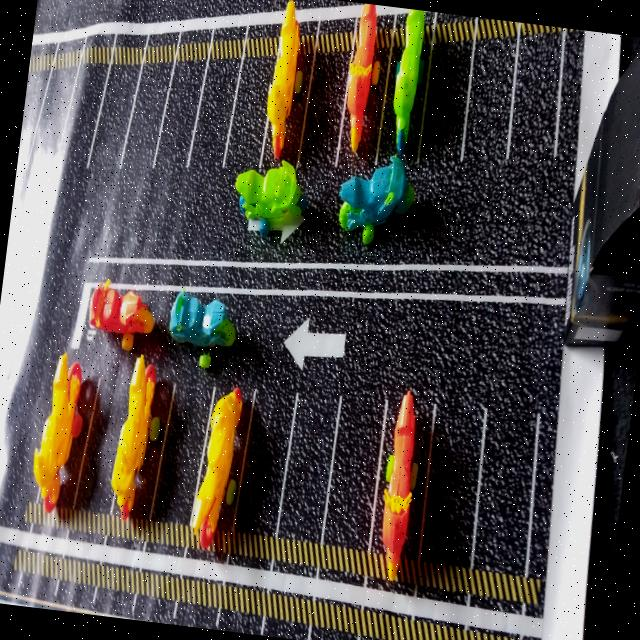bikes: (338, 155, 414, 244), (235, 160, 305, 235), (169, 290, 235, 368), (89, 279, 154, 350)
occupied: (369, 390, 432, 580), (189, 388, 256, 550), (33, 353, 97, 512), (111, 355, 169, 520), (334, 3, 391, 166), (375, 9, 434, 164), (260, 0, 312, 165)
others: (565, 50, 640, 346), (610, 451, 618, 462)
slots: (474, 403, 535, 573), (423, 405, 483, 566), (326, 390, 384, 548), (279, 396, 338, 541), (236, 388, 293, 535), (152, 383, 210, 524), (74, 366, 128, 512), (508, 33, 559, 166), (421, 40, 471, 165), (121, 60, 172, 182), (464, 39, 514, 160), (88, 65, 139, 183), (152, 60, 205, 171), (62, 63, 108, 179), (225, 57, 272, 170), (302, 52, 348, 159), (191, 61, 236, 166), (35, 67, 76, 154)
